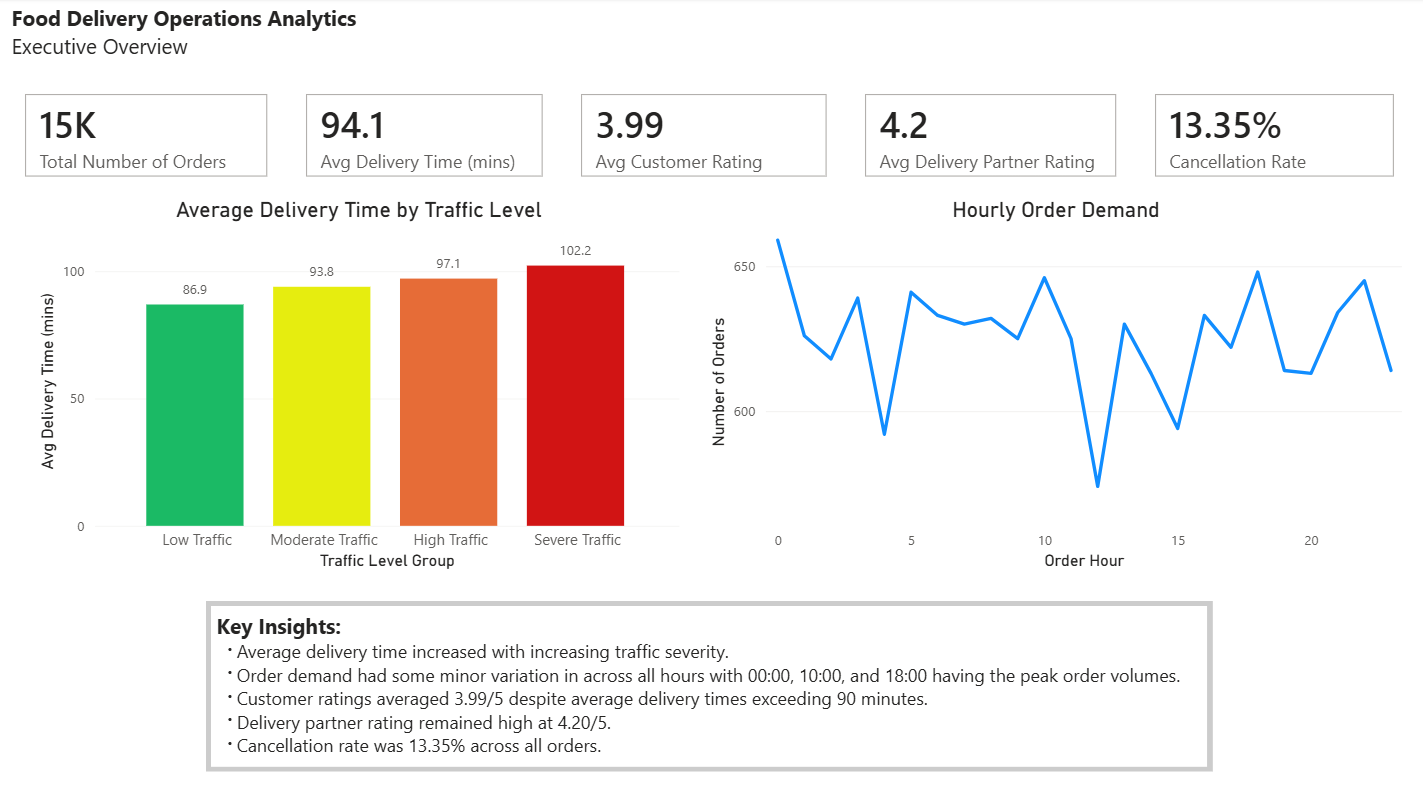

The page's visual inventory and layout, read from the dashboard file:
{"tool":"powerbi","page":{"name":"Executive Overview","canvas":[1280,720],"ordinal":0},"visuals":[{"type":"cardVisual","fields":{"Data":["food_delivery_data.Total Orders"]},"box":[7.8,69.1,251.9,108.9],"z":0},{"type":"cardVisual","fields":{"Data":["food_delivery_data.Avg Delivery Time"]},"box":[259.7,69.1,246.1,108.9],"z":1000},{"type":"cardVisual","fields":{"Data":["food_delivery_data.Avg Delivery Partner Rating"]},"box":[760.6,69.1,259.7,108.9],"z":2000},{"type":"cardVisual","fields":{"Data":["food_delivery_data.Cancellation Rate %"]},"box":[1020.3,69.1,248,108.9],"z":3000},{"type":"clusteredColumnChart","title":"Average Delivery Time by Traffic Level","fields":{"Y":["food_delivery_data.Avg Delivery Time (mins)"],"Category":["food_delivery_data.Traffic Level Group"]},"box":[32.1,178,583.6,338.5],"z":4000},{"type":"cardVisual","fields":{"Data":["food_delivery_data.Avg Customer Rating"]},"box":[505.8,69.1,254.8,108.9],"z":5000},{"type":"lineChart","title":"Hourly Order Demand","fields":{"Category":["food_delivery_data.order_hour"],"Y":["food_delivery_data.Total Orders"]},"box":[633.2,178,630.3,338.5],"z":6000},{"type":"textbox","box":[7.8,0,333.6,69.1],"z":7000},{"type":"shape","box":[186.7,539.8,901.6,152.7],"z":8000},{"type":"textbox","box":[191.6,544.7,891.9,144],"z":9000}]}

Visuals, with their boxes in screenshot pixels (x1, y1, x2, y2), scaled from the page's 1280x720 canvas onto the 1423x798 screenshot:
cardVisual - food_delivery_data.Total Orders: crop(9, 77, 289, 197)
cardVisual - food_delivery_data.Avg Delivery Time: crop(289, 77, 562, 197)
cardVisual - food_delivery_data.Avg Delivery Partner Rating: crop(846, 77, 1134, 197)
cardVisual - food_delivery_data.Cancellation Rate %: crop(1134, 77, 1410, 197)
"Average Delivery Time by Traffic Level" clusteredColumnChart: crop(36, 197, 684, 572)
cardVisual - food_delivery_data.Avg Customer Rating: crop(562, 77, 846, 197)
"Hourly Order Demand" lineChart: crop(704, 197, 1405, 572)
textbox: crop(9, 0, 380, 77)
shape: crop(208, 598, 1210, 768)
textbox: crop(213, 604, 1205, 763)
